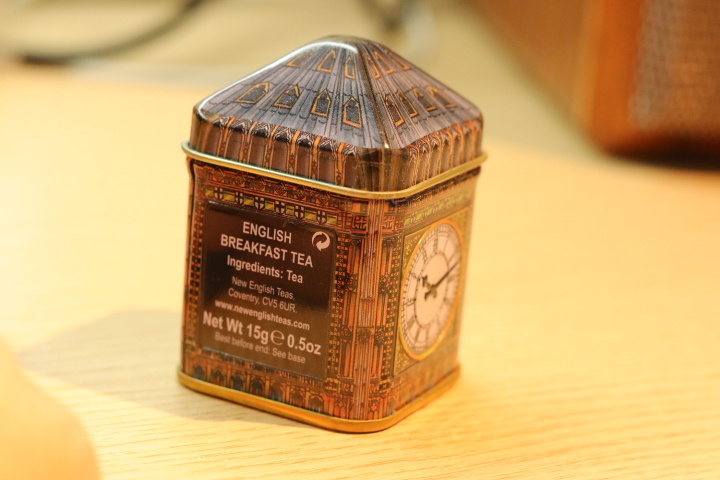Big Ben: (166, 29, 497, 444)
